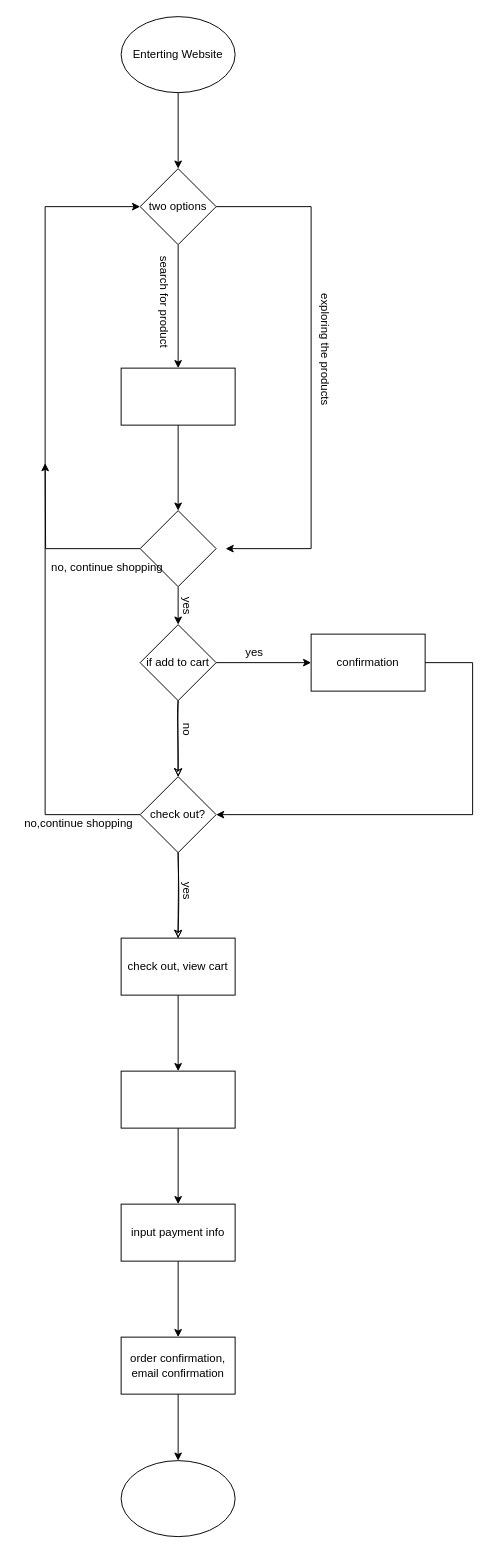
This 497x1553 diagram has some shape labels left out. The shapes that lost their labels are listed below. From the top down, each one's centre as x and y in pixels, then its label:
the point at 177,396: provide input for searching
the point at 177,548: if view a specific product
the point at 177,1099: view payment
the point at 177,1498: leave website
